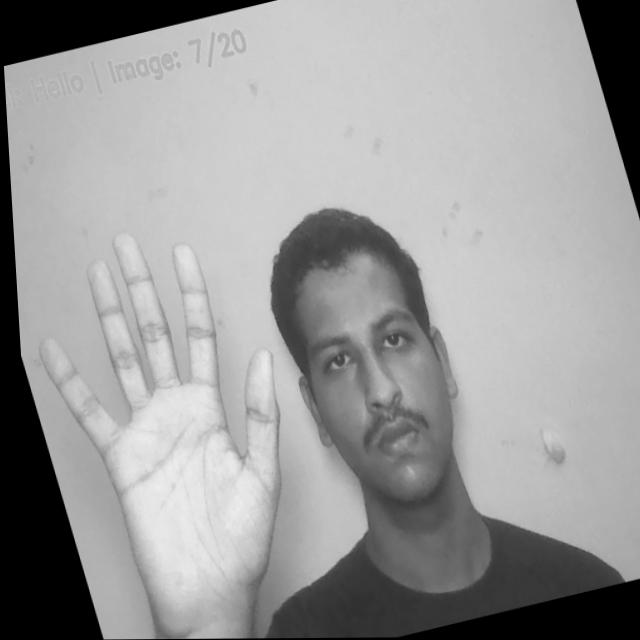Hello: (13, 206, 302, 588)
